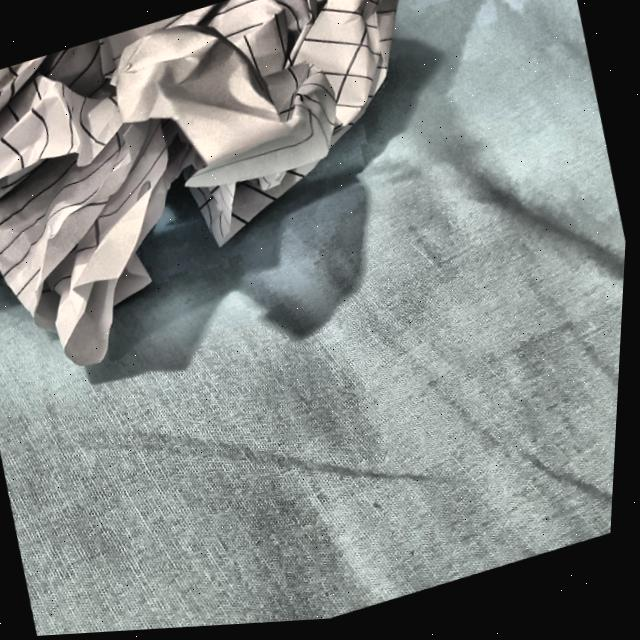paper: (0, 0, 512, 393)
